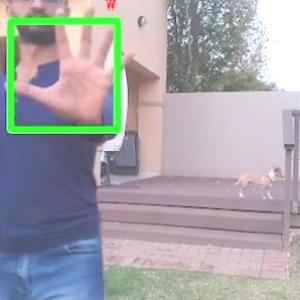follow_hand: (4, 3, 137, 125)
